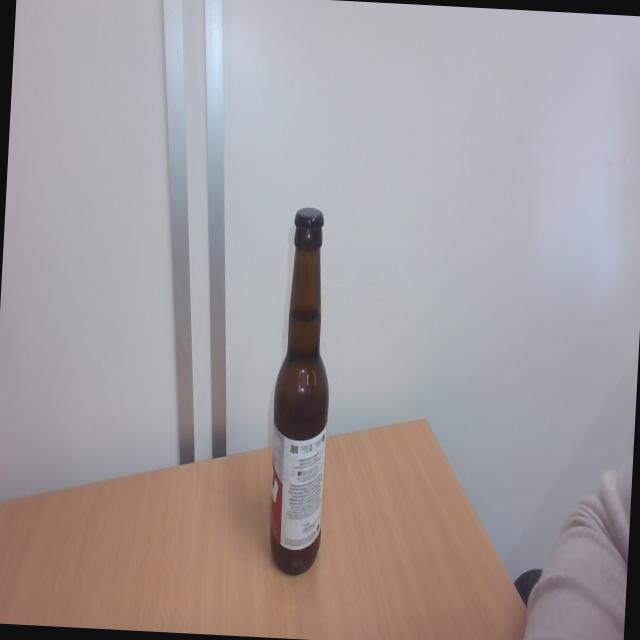Bottle: (264, 233, 338, 577)
Cap: (293, 205, 326, 232)
Label: (265, 419, 328, 549)
